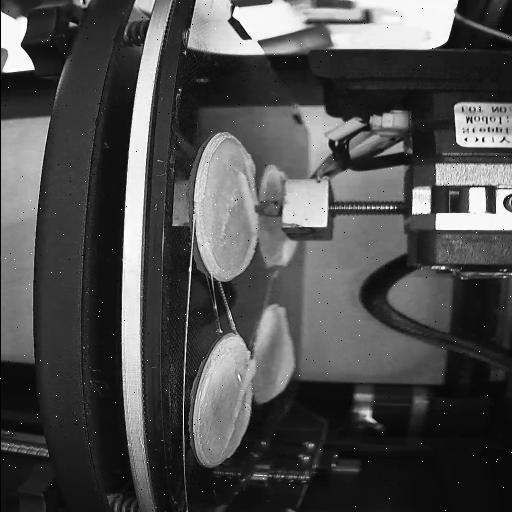over_extrusion: (220, 360, 258, 450), (264, 305, 296, 399), (202, 236, 257, 282), (234, 157, 258, 229), (269, 240, 298, 270)
